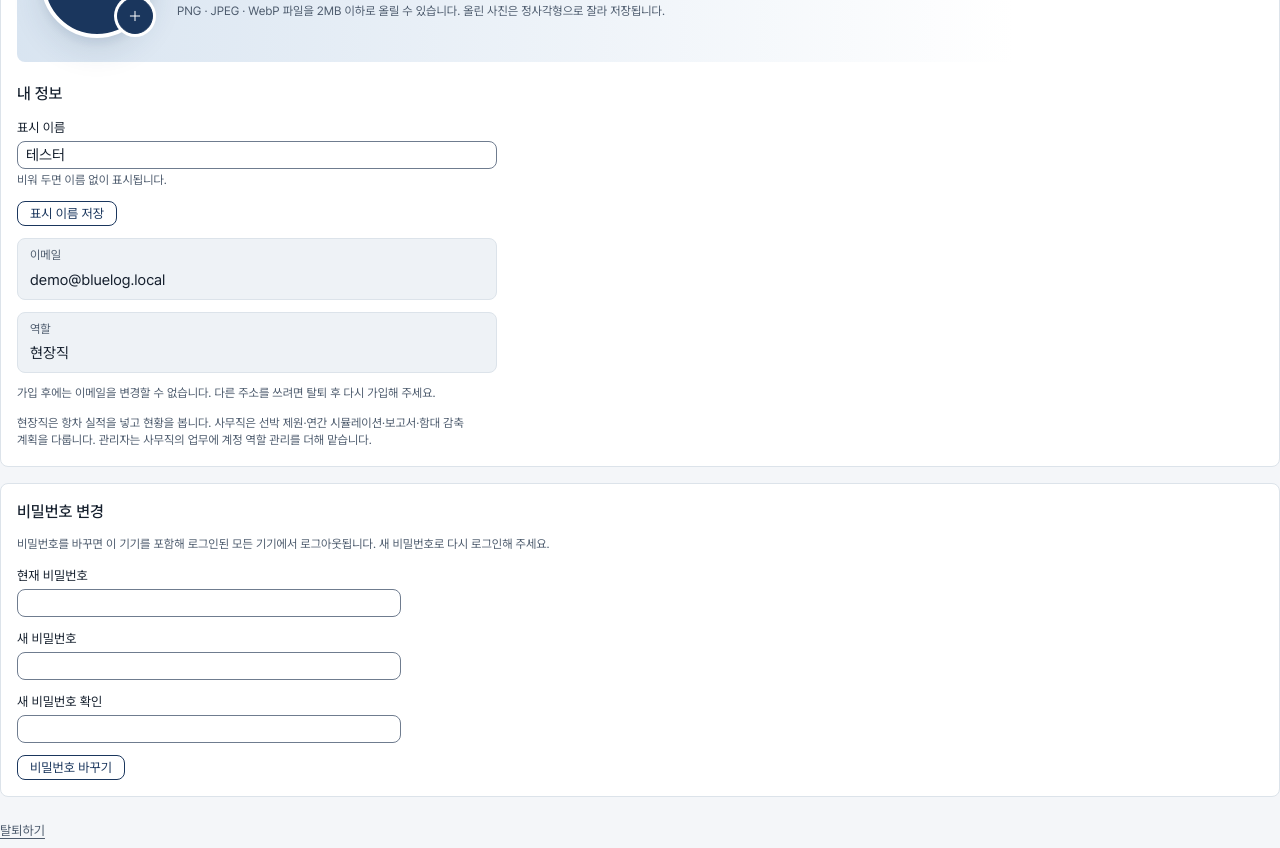
Test: 되돌릴 수 없는 조작이라 확인을 받는다 (#754) › 버튼 한 번으로는 탈퇴하지 않는다
The image size is (1280, 848).
(page scrolled)
Click the button "탈퇴하기".
click(22, 830)  # box left=0, top=821, right=45, bottom=840
(page scrolled)
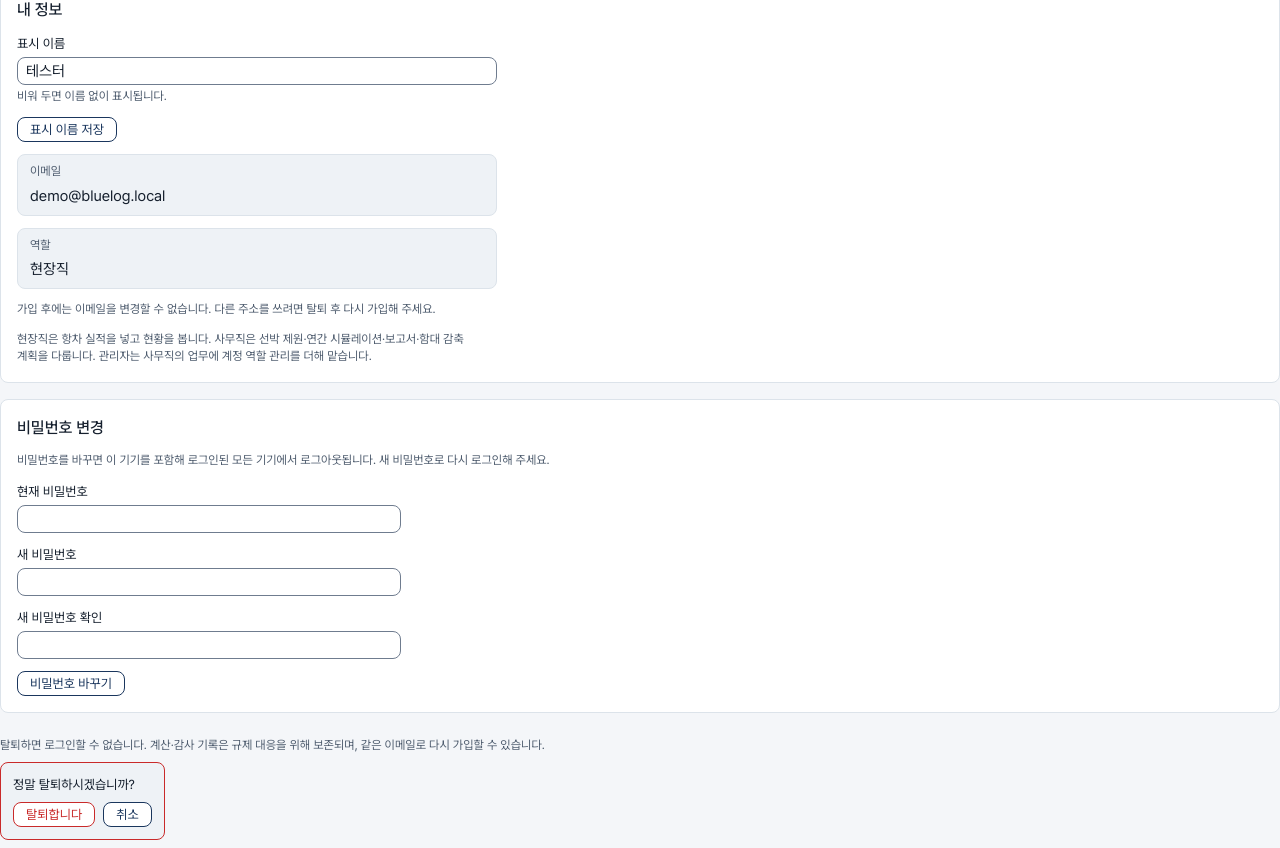
Check: the text "정말 탈퇴하시겠습니까?" is shown, box left=13, top=775, right=152, bottom=794
